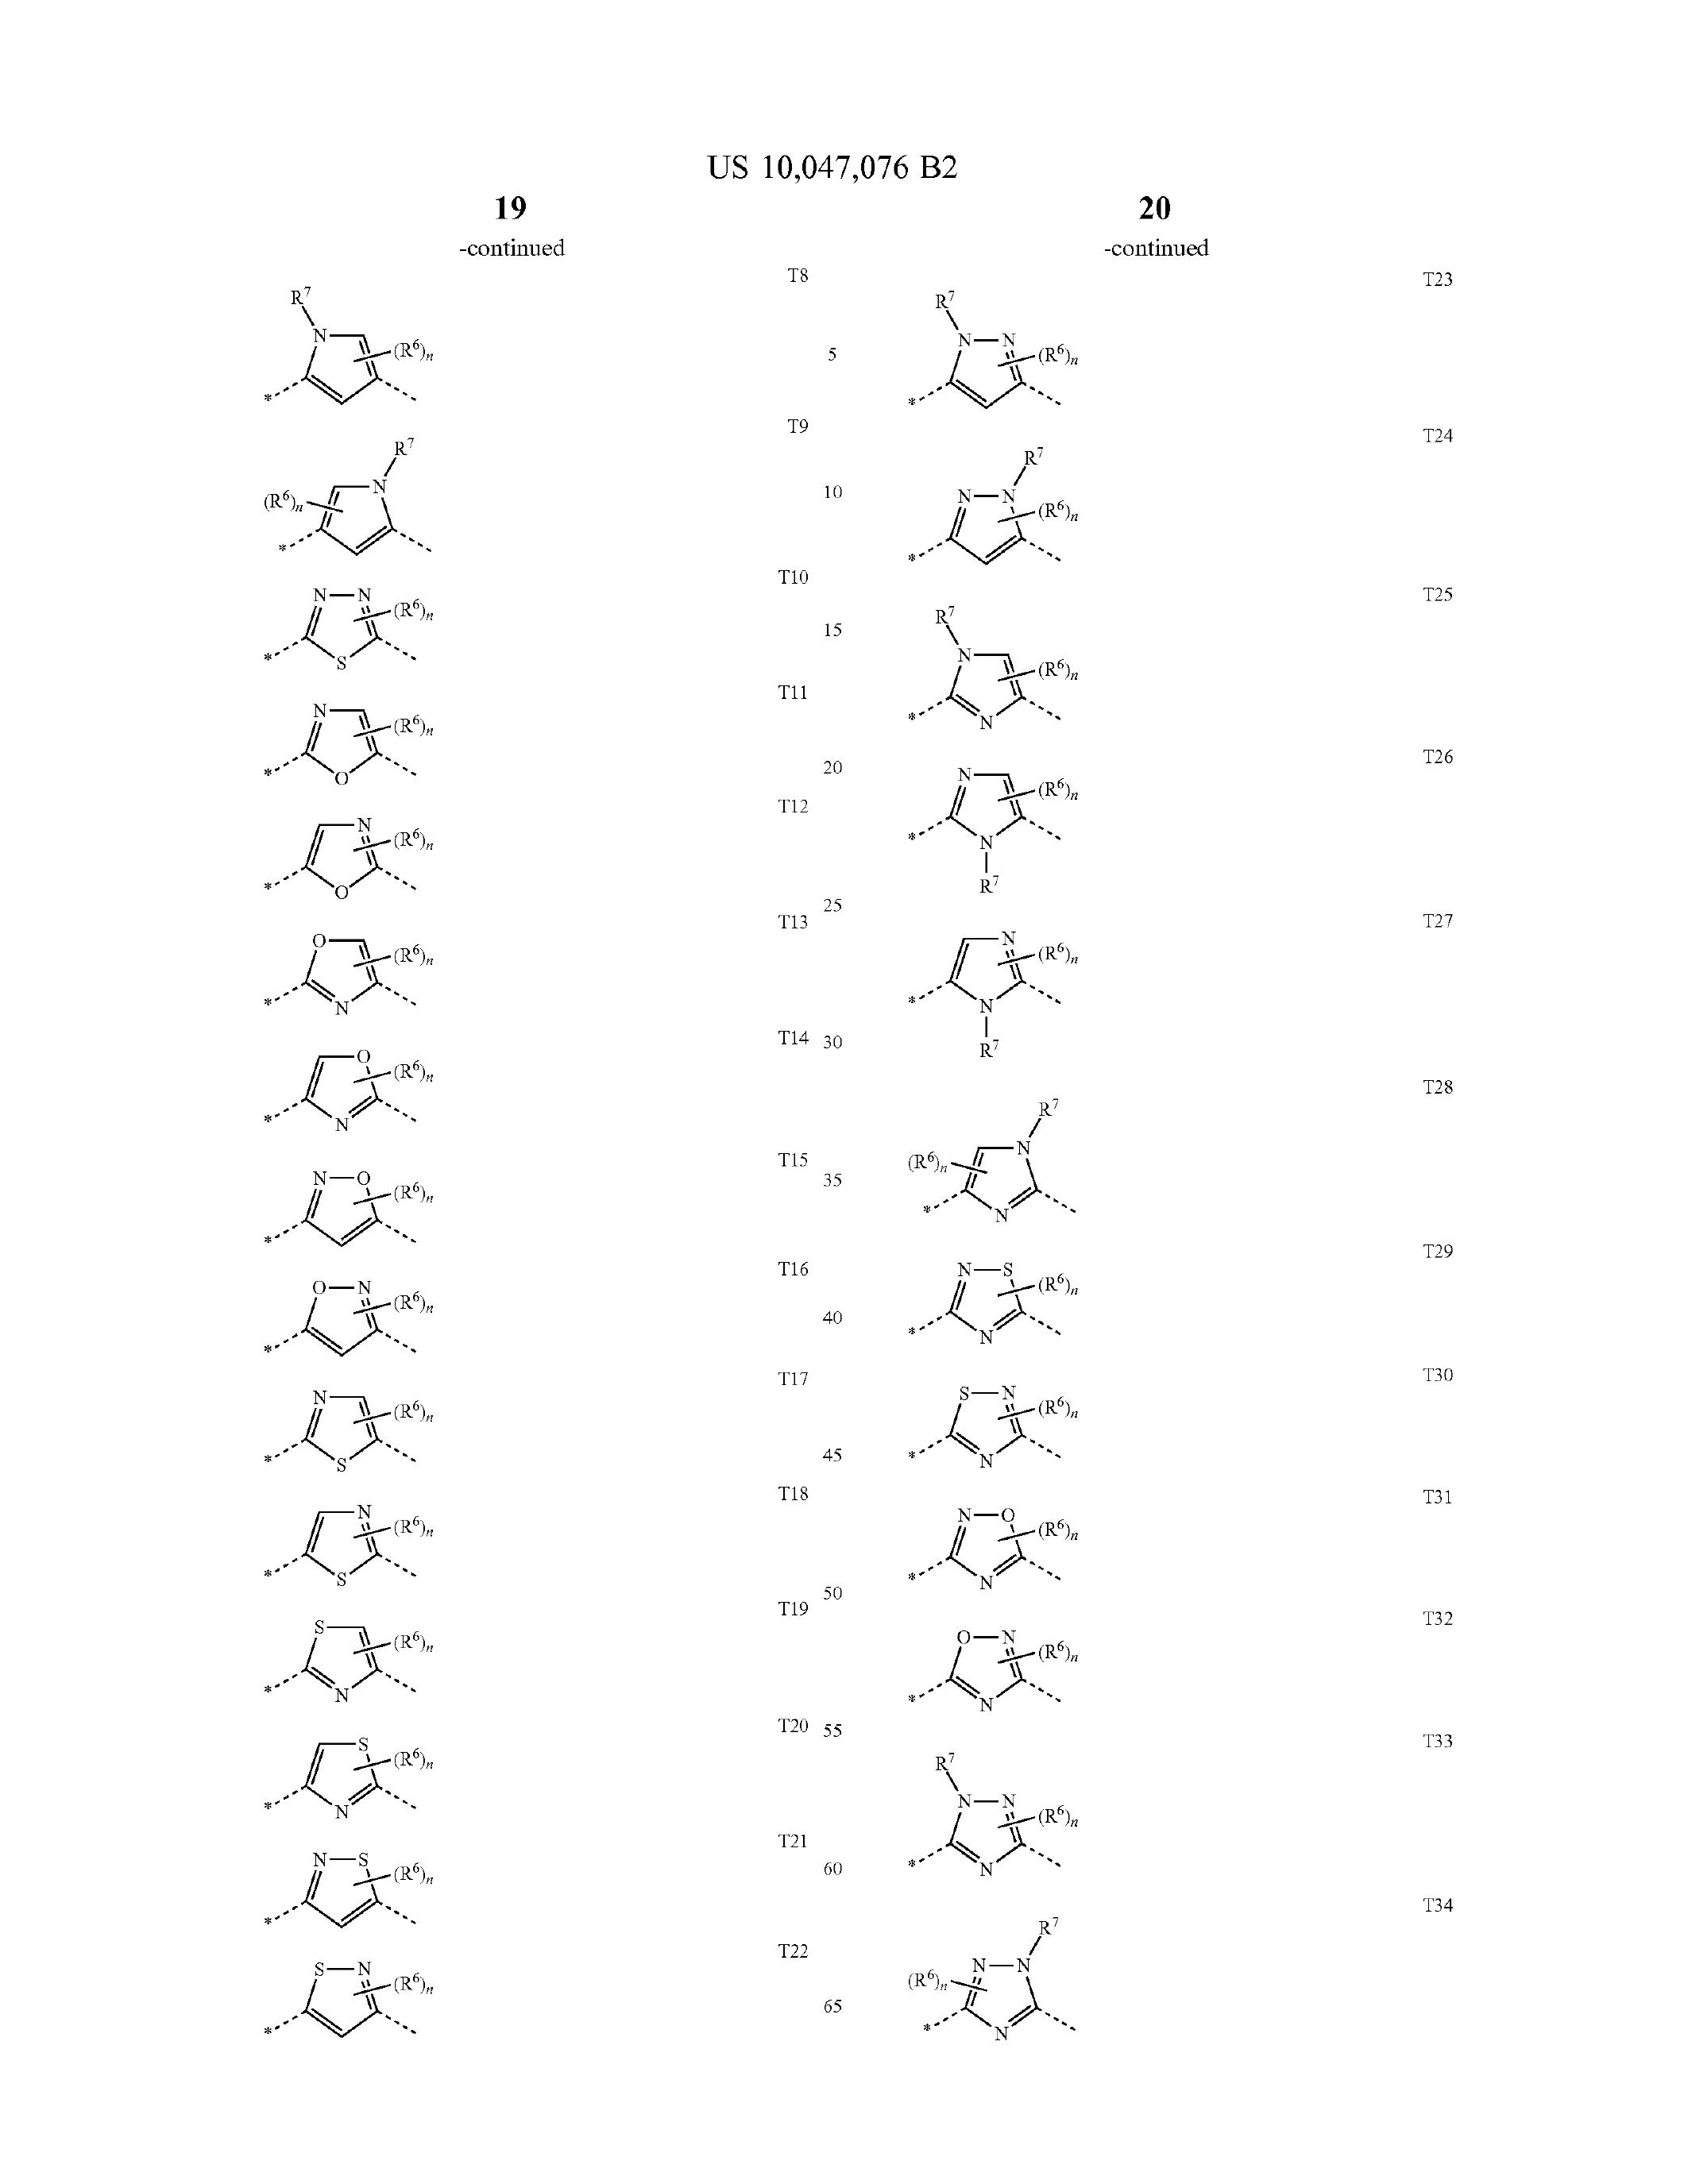intermediates: (888, 1723, 1149, 2067)
